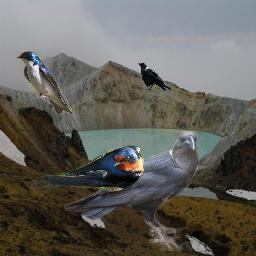Crow: (64, 131, 198, 251), (138, 61, 172, 92)
Swallow: (29, 145, 145, 191), (16, 51, 74, 115)
